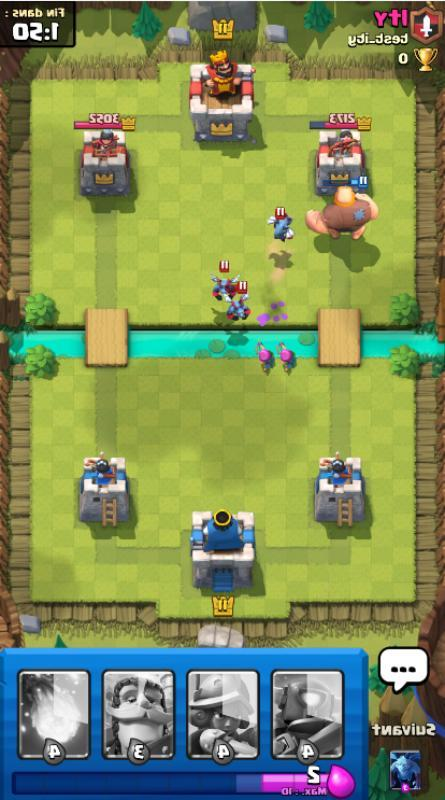archere: (277, 340, 298, 373), (255, 339, 275, 372)
gargouille: (211, 260, 240, 301), (225, 281, 253, 321), (268, 205, 294, 242)
geant: (305, 176, 379, 240)
